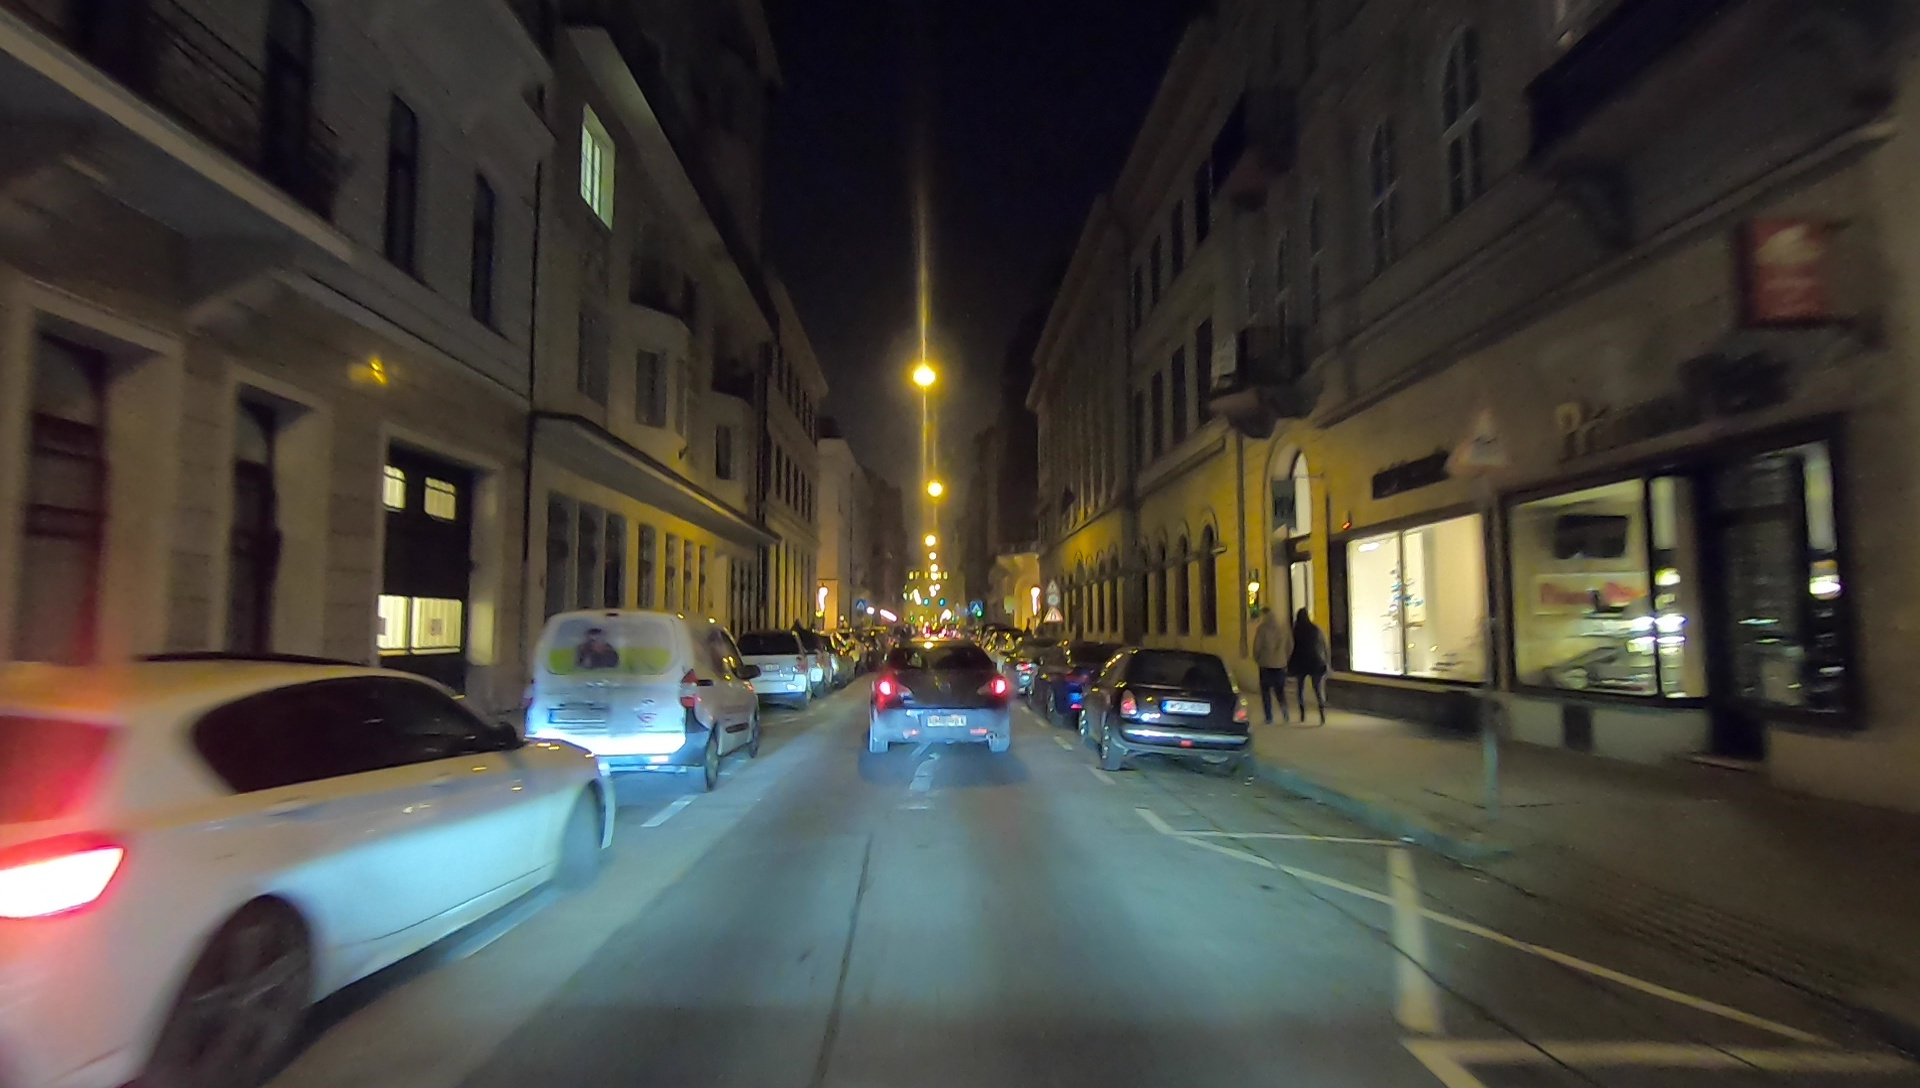person: (1243, 606, 1293, 728), (1291, 611, 1334, 724)
